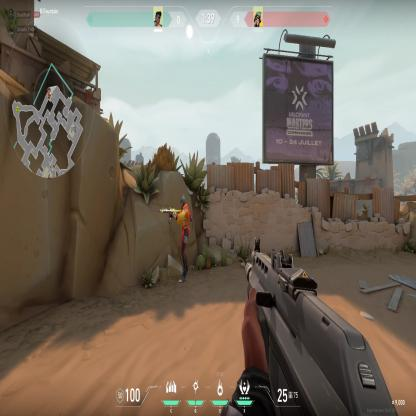enemy: (168, 192, 194, 287)
